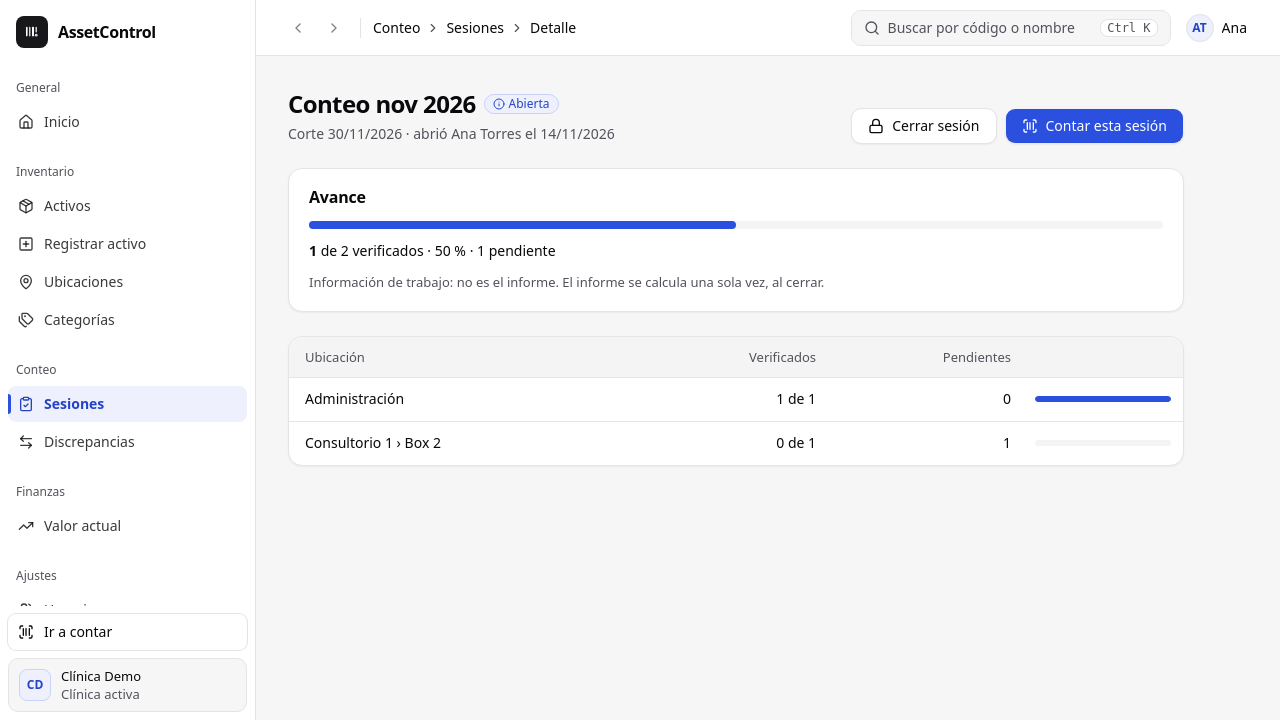
Test case: caracterización de Sesiones (T9): lo que no cambia › el cierre dice su efecto: informe congelado, sin reabrir ni seguir contando
Click the button "Cerrar sesión" at (924, 126), box [851,108,996,144]
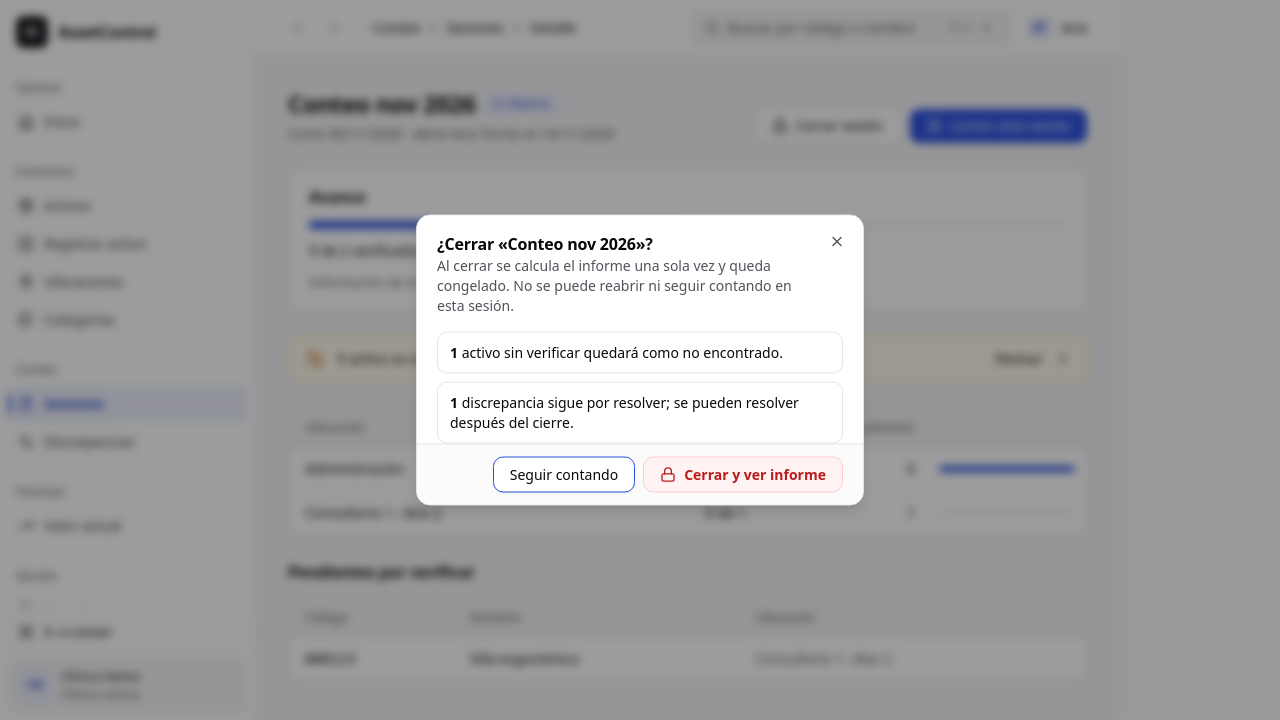
Expected: the text "Al cerrar se calcula el informe una sola vez y queda congelado. No se puede reabrir ni seguir contando en esta sesión." is shown, [437,256,792,314]
Expected: the list named "Lo que queda al cerrar" is shown, [437,332,843,444]
Expected: the button "Seguir contando" is shown, [493,456,635,492]
